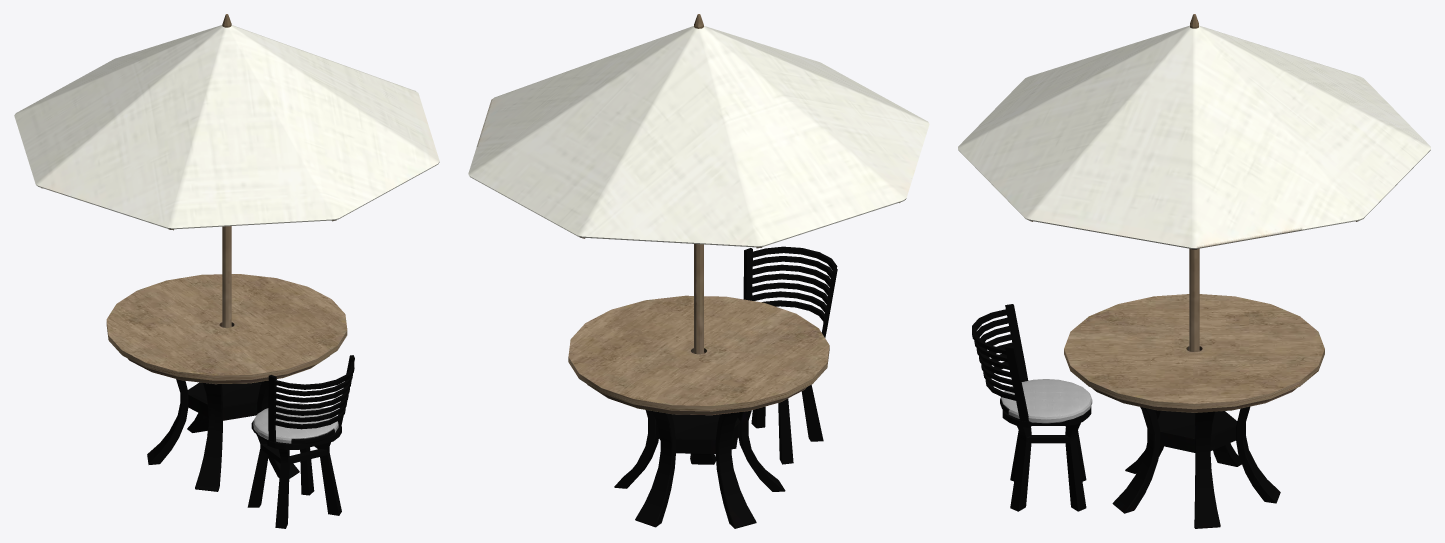
File: beach_table.glb
3 renders of one model, left to right at view 1: azimuth 30°, elevation 25°; view 2: azimuth 150°, elevation 25°; view 3: azimuth 270°, elevation 25°, orthographic. The views are drawn at different scales.
Visible parts, largest first — view 1: pCone2_lambert1_0, pCylinder7_lambert3_0, pCylinder9_lambert4_0; view 2: pCone2_lambert1_0, pCylinder7_lambert3_0, pCylinder9_lambert4_0; view 3: pCone2_lambert1_0, pCylinder7_lambert3_0, pCylinder9_lambert4_0.
Boxes of the visible parts, box(x1,y1,x2,y2) form: pCone2_lambert1_0: box(14, 14, 439, 327); pCylinder7_lambert3_0: box(106, 274, 347, 491); pCylinder9_lambert4_0: box(247, 355, 354, 528); pCone2_lambert1_0: box(468, 14, 929, 354); pCylinder7_lambert3_0: box(568, 295, 829, 528); pCylinder9_lambert4_0: box(731, 246, 837, 464); pCone2_lambert1_0: box(958, 14, 1430, 351); pCylinder7_lambert3_0: box(1064, 294, 1324, 528); pCylinder9_lambert4_0: box(972, 304, 1092, 511).
Size of the model in its own units: 18.87 by 21.12 by 18.87.
3 materials, 3 textured.
